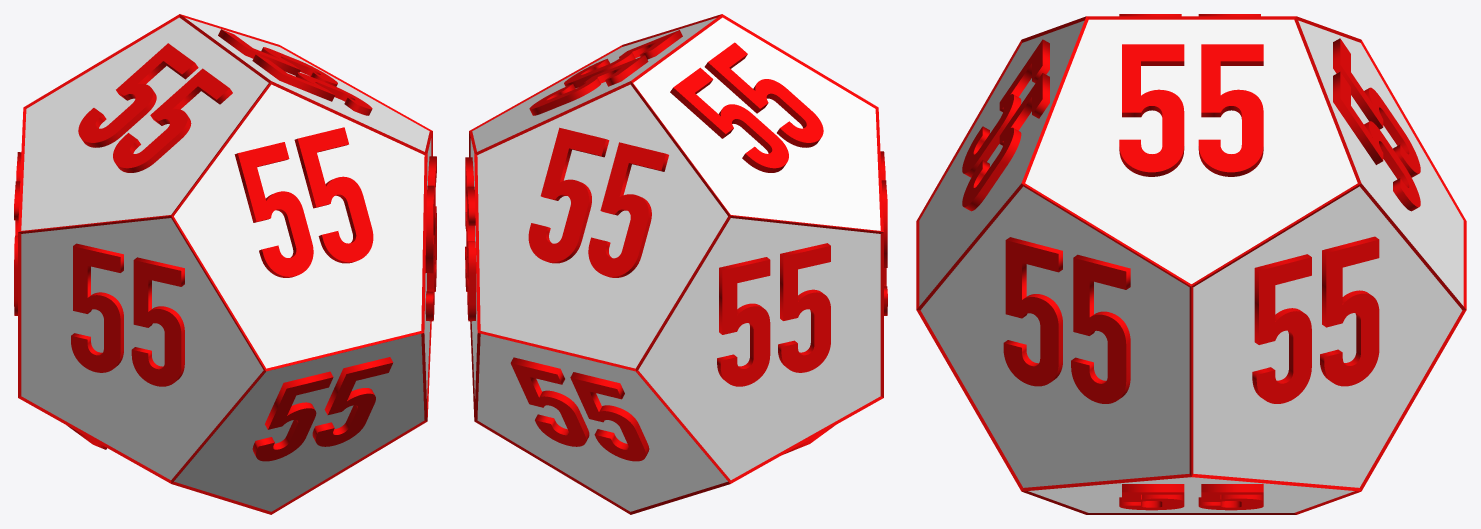
Rendered from dodecahedron_sign-55.glb.
3 views of the same model, side by side, from view 1: azimuth 30°, elevation 25°; view 2: azimuth 150°, elevation 25°; view 3: azimuth 270°, elevation 25° (orthographic). The views are drawn at different scales.
Visible parts, largest first — view 1: Dodecahedron_Solid, Text20_5, Dodecahedron_Wire, Text20_11, Text20_7, Text20_10, Text20_2, Text20_6, Text20_8; view 2: Dodecahedron_Solid, Text20_0, Dodecahedron_Wire, Text20_8, Text20_7, Text20_3, Text20_2, Text20_1, Text20_11; view 3: Dodecahedron_Solid, Dodecahedron_Wire, Text20_6, Text20_1, Text20_2, Text20_5, Text20_0, Text20_4.
Boxes of the visible parts, bbox=[...] form: Dodecahedron_Solid: bbox=[21, 17, 431, 511]; Text20_5: bbox=[234, 127, 373, 277]; Dodecahedron_Wire: bbox=[18, 14, 432, 514]; Text20_11: bbox=[71, 243, 184, 386]; Text20_7: bbox=[78, 43, 232, 172]; Text20_10: bbox=[252, 357, 393, 461]; Text20_2: bbox=[218, 29, 372, 115]; Text20_6: bbox=[425, 156, 436, 321]; Text20_8: bbox=[14, 152, 21, 315]; Dodecahedron_Solid: bbox=[470, 17, 880, 511]; Text20_0: bbox=[528, 127, 668, 277]; Dodecahedron_Wire: bbox=[469, 14, 883, 514]; Text20_8: bbox=[717, 243, 830, 386]; Text20_7: bbox=[670, 42, 823, 172]; Text20_3: bbox=[510, 357, 649, 461]; Text20_2: bbox=[529, 30, 682, 115]; Text20_1: bbox=[465, 157, 476, 321]; Text20_11: bbox=[880, 151, 887, 315]; Dodecahedron_Solid: bbox=[919, 19, 1463, 512]; Dodecahedron_Wire: bbox=[916, 16, 1466, 514]; Text20_6: bbox=[1003, 237, 1130, 403]; Text20_1: bbox=[1252, 236, 1379, 403]; Text20_2: bbox=[1119, 44, 1263, 176]; Text20_5: bbox=[962, 39, 1049, 211]; Text20_0: bbox=[1333, 38, 1420, 211]; Text20_4: bbox=[1119, 484, 1263, 510].
Bounding box in the file's own units: 3.26 × 3.26 × 3.26.
